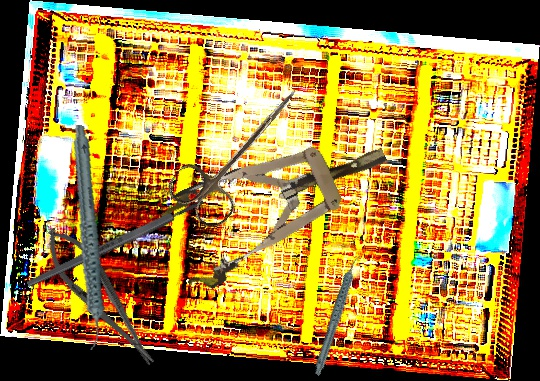Handpiece: (39, 124, 133, 351), (291, 254, 386, 377)
Iris Scissors: (162, 66, 319, 234)
Needle Holder: (33, 218, 168, 377)
Scalpel Handle: (25, 197, 206, 289)
Speculum: (153, 109, 406, 297)
